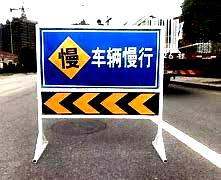sign: (39, 27, 161, 117)
